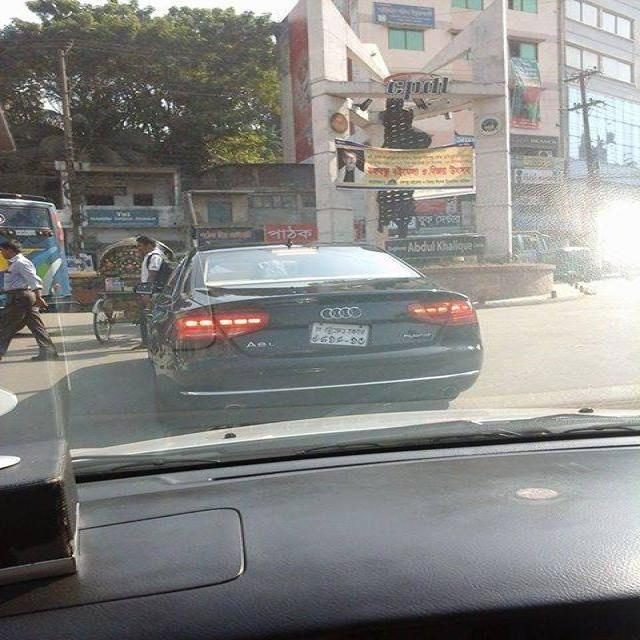numberplate: (309, 321, 372, 347)
